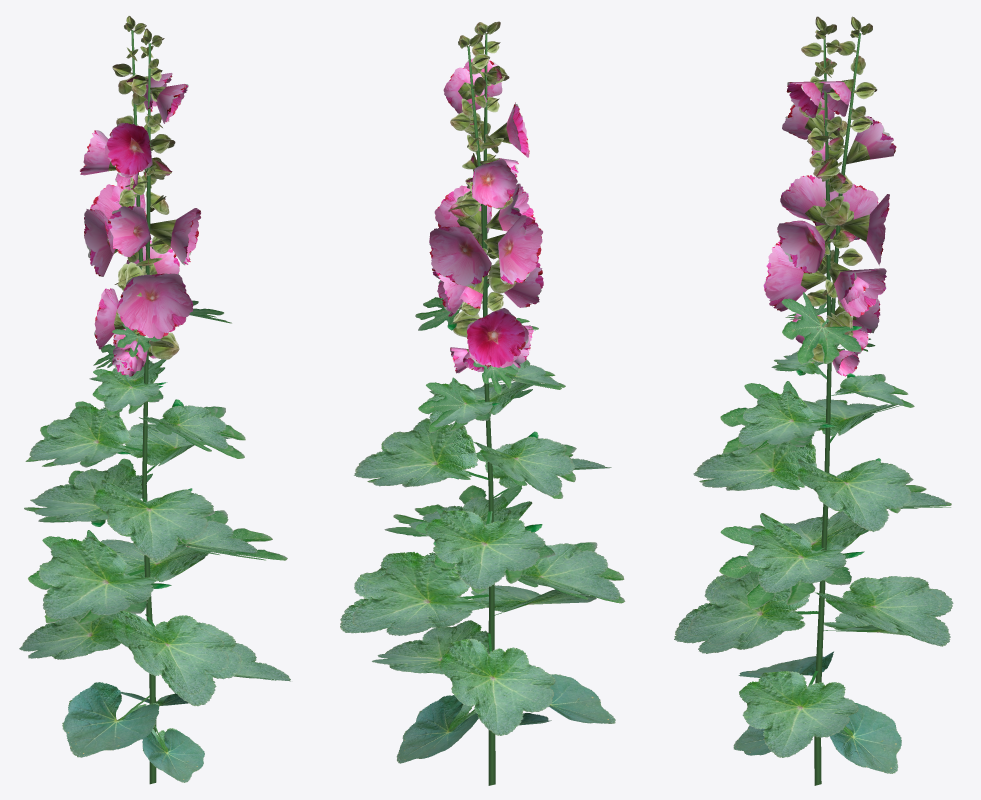
File: Hollyhock3A.fbx
The picture shows the model from 3 angles, left to right: view 1: azimuth 30°, elevation 25°; view 2: azimuth 150°, elevation 25°; view 3: azimuth 270°, elevation 25°; orthographic projection. The views are drawn at different scales.
Visible parts, largest first — view 1: Hollyhock2A_LOD0, Hollyhock1A_LOD0, Hollyhock3A_LOD0, Hollyhock1B_LOD0, Hollyhock3B_LOD0, Hollyhock2B_LOD0; view 2: Hollyhock1A_LOD0, Hollyhock2A_LOD0, Hollyhock3A_LOD0, Hollyhock1B_LOD0, Hollyhock2B_LOD0; view 3: Hollyhock1A_LOD0, Hollyhock2A_LOD0, Hollyhock3A_LOD0, Hollyhock3B_LOD0, Hollyhock2B_LOD0.
Part boxes in pixels (x1=…): Hollyhock2A_LOD0: x1=19, y1=16, x2=257, y2=780; Hollyhock1A_LOD0: x1=19, y1=29, x2=290, y2=784; Hollyhock3A_LOD0: x1=24, y1=28, x2=287, y2=782; Hollyhock1B_LOD0: x1=96, y1=84, x2=187, y2=340; Hollyhock3B_LOD0: x1=96, y1=206, x2=193, y2=371; Hollyhock2B_LOD0: x1=80, y1=25, x2=200, y2=705; Hollyhock1A_LOD0: x1=354, y1=21, x2=620, y2=785; Hollyhock2A_LOD0: x1=340, y1=34, x2=614, y2=755; Hollyhock3A_LOD0: x1=352, y1=23, x2=625, y2=763; Hollyhock1B_LOD0: x1=463, y1=60, x2=528, y2=370; Hollyhock2B_LOD0: x1=420, y1=36, x2=539, y2=715; Hollyhock1A_LOD0: x1=674, y1=18, x2=947, y2=785; Hollyhock2A_LOD0: x1=693, y1=16, x2=953, y2=785; Hollyhock3A_LOD0: x1=687, y1=16, x2=951, y2=773; Hollyhock3B_LOD0: x1=763, y1=175, x2=886, y2=353; Hollyhock2B_LOD0: x1=777, y1=30, x2=895, y2=376.
Size of the model in its own units: 85.05 by 236 by 83.75.
